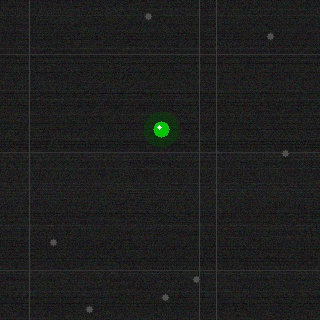green_normal: (151, 119, 171, 139)
